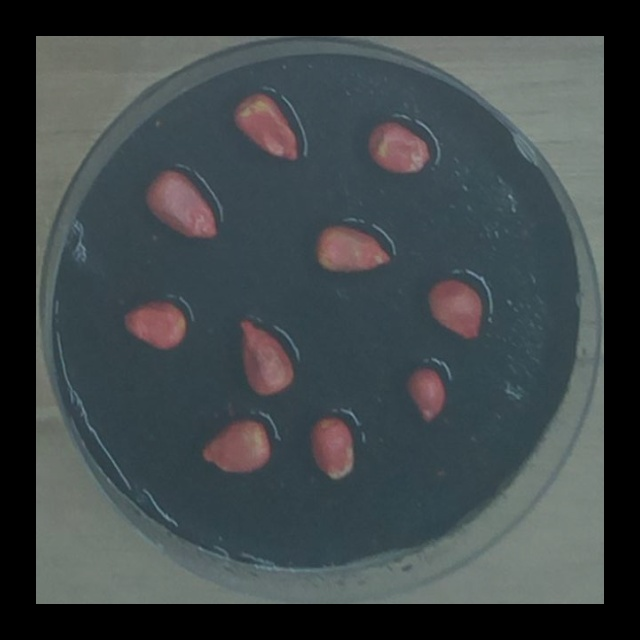Zea mays: (139, 162, 224, 246), (227, 87, 304, 168), (232, 312, 300, 402), (194, 411, 277, 478), (307, 217, 396, 279), (420, 272, 487, 345), (360, 115, 434, 181), (116, 293, 191, 356), (303, 408, 360, 487), (398, 361, 450, 427)
